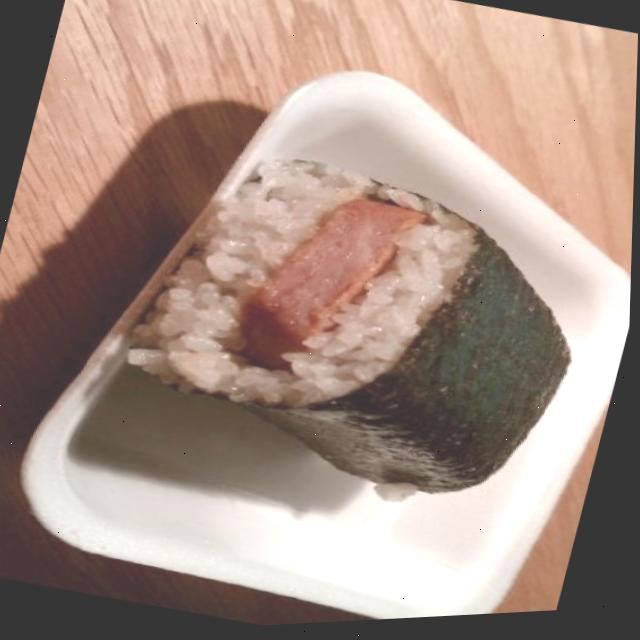寿司卷物: (80, 108, 635, 558)
